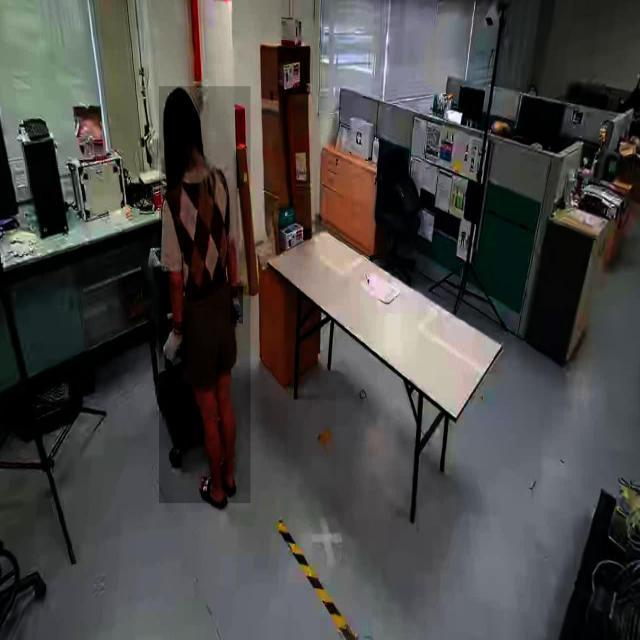gloves: (165, 322, 188, 370), (230, 286, 243, 324)
